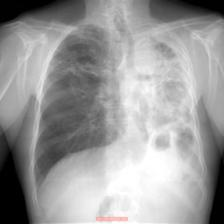tuberculosis: (25, 14, 211, 223)
